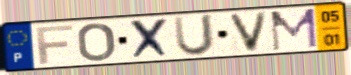F: (33, 23, 75, 65)
M: (268, 7, 320, 53)
O: (76, 21, 118, 63)
U: (172, 13, 216, 58)
V: (226, 10, 271, 54)
X: (128, 16, 173, 61)
